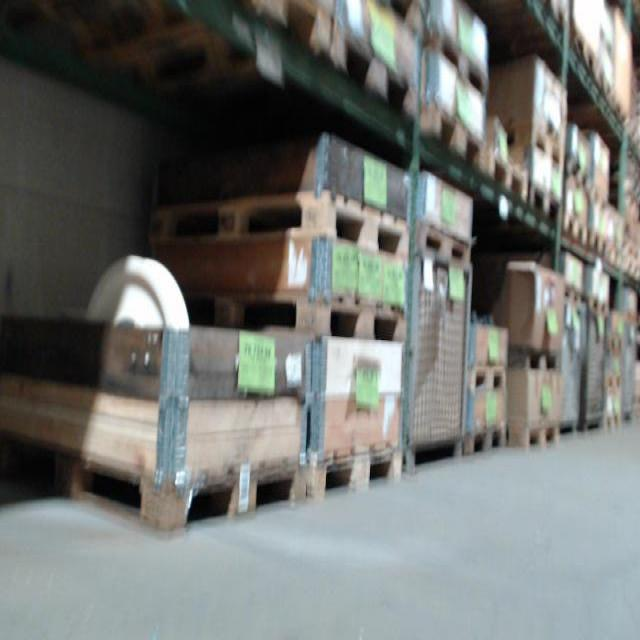pallet: (3, 403, 311, 537), (140, 187, 479, 267), (163, 290, 413, 340), (199, 3, 339, 83), (334, 34, 415, 130), (412, 96, 482, 182), (318, 440, 406, 505), (428, 26, 494, 99), (499, 119, 567, 169), (482, 150, 525, 213), (505, 1, 566, 37), (354, 3, 427, 31), (463, 420, 512, 460), (507, 421, 565, 450), (570, 27, 598, 82), (555, 212, 594, 251), (507, 347, 561, 375), (530, 185, 558, 231), (465, 358, 510, 386), (564, 155, 594, 194), (599, 64, 617, 116), (562, 279, 583, 307), (585, 296, 609, 315), (606, 415, 623, 431)
stillage: (400, 241, 480, 481), (551, 288, 586, 437), (579, 300, 610, 432), (618, 319, 637, 421)
